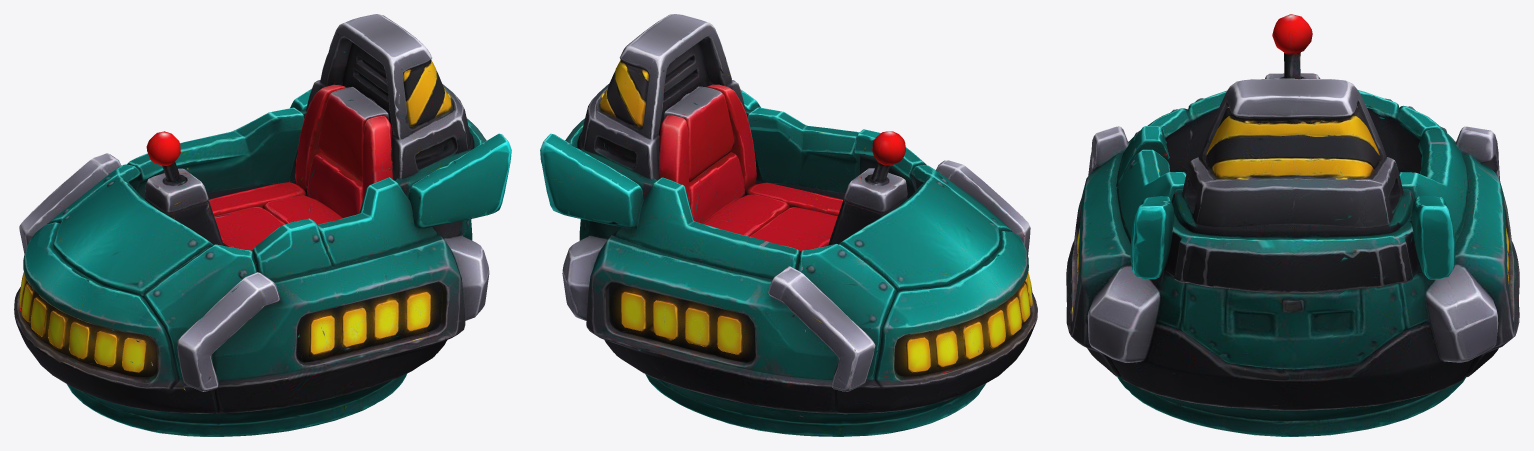
Rendered from nave.glb.
3 views of the same model, side by side, from view 1: azimuth 30°, elevation 25°; view 2: azimuth 150°, elevation 25°; view 3: azimuth 270°, elevation 25° (orthographic). The views are drawn at different scales.
Size of the model in its own units: 1.9 by 1.29 by 1.51.
1 material, 1 textured.
